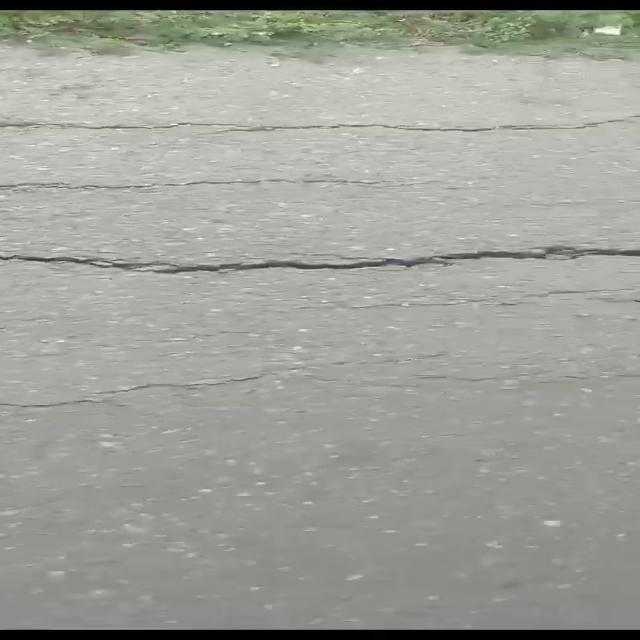Melintang: (0, 233, 640, 290)
